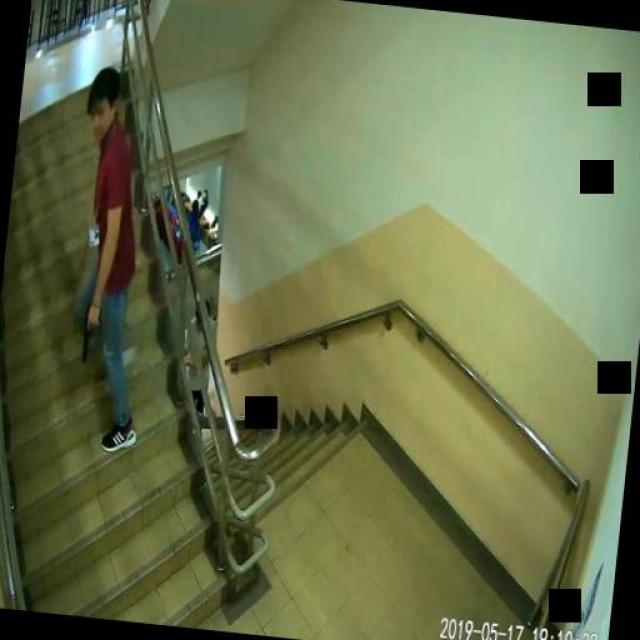gun: (80, 305, 101, 363)
